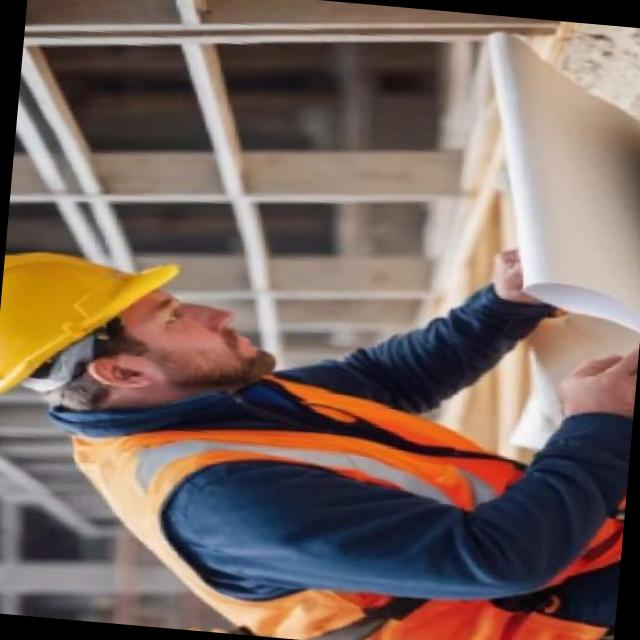not-gloved: (539, 326, 640, 424)
